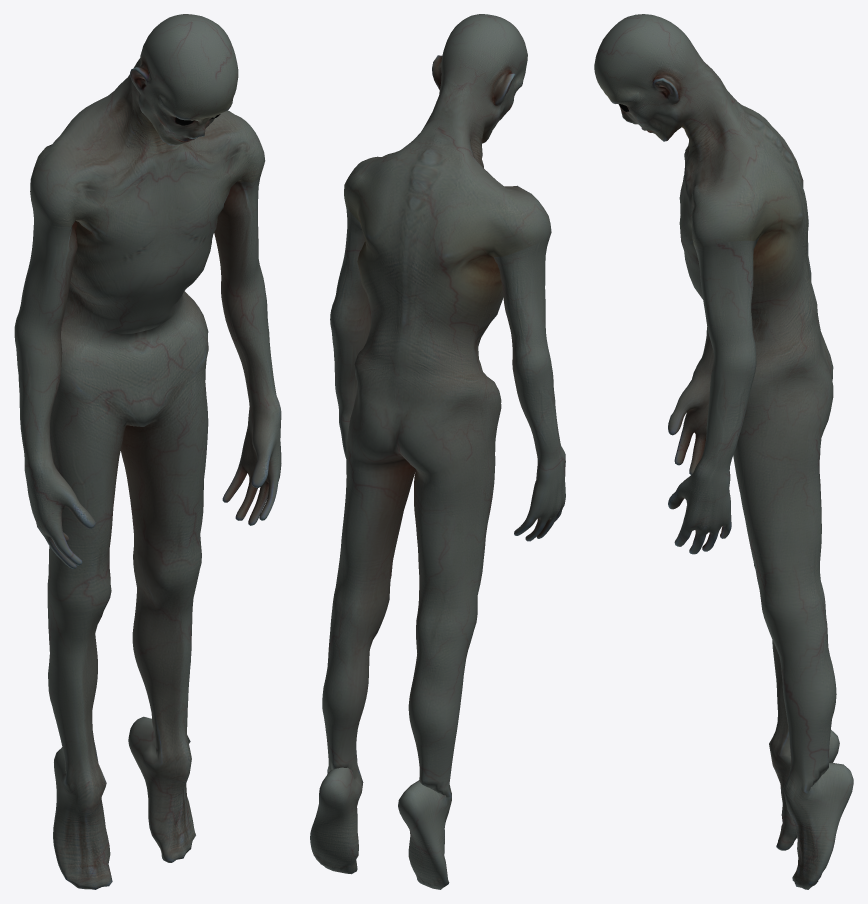
File: watcher04.FBX
3 views of the same model, side by side, from view 1: azimuth 30°, elevation 25°; view 2: azimuth 150°, elevation 25°; view 3: azimuth 270°, elevation 25° (orthographic). The views are drawn at different scales.
Visible parts, largest first — view 1: watcher_low; view 2: watcher_low; view 3: watcher_low.
Part boxes in pixels (box(x1,y1,x2,y2)): watcher_low: box(14, 14, 281, 889); watcher_low: box(310, 14, 565, 889); watcher_low: box(594, 14, 853, 889).
Size of the model in its own units: 52.22 by 185 by 51.95.
